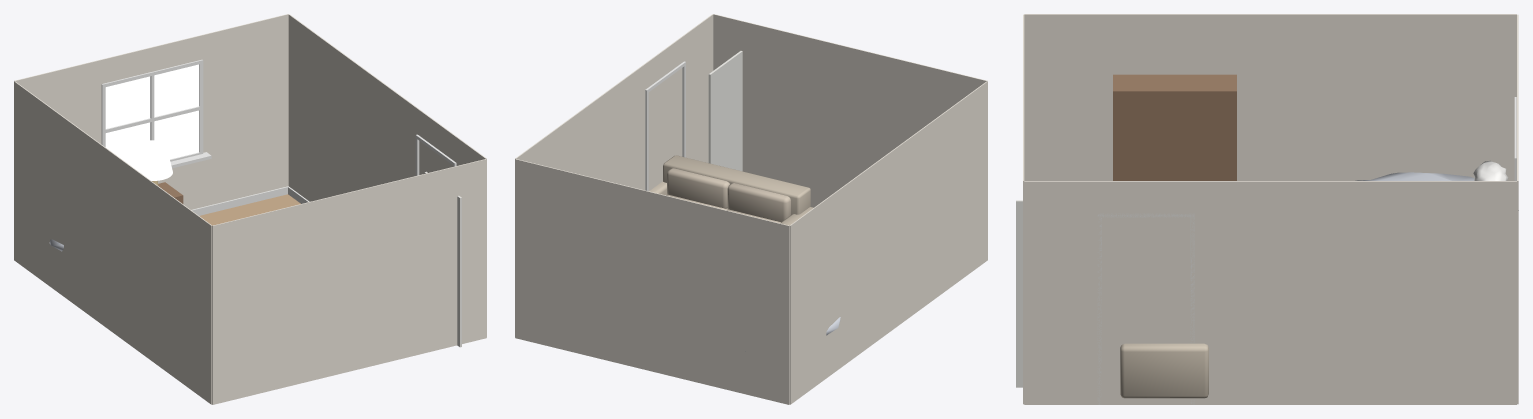
File: world.glb
The picture shows the model from 3 angles, left to right: view 1: azimuth 30°, elevation 25°; view 2: azimuth 150°, elevation 25°; view 3: azimuth 270°, elevation 25°; orthographic projection. The views are drawn at different scales.
Parts seen in each view (by area): view 1: wall_paint, window_light, window_frame, lamp_shade, wood_floor, baseboard, door_paint; view 2: wall_paint, door_paint, cushion, fabric_sofa, window_frame; view 3: wall_paint, wood_dark, fabric_sofa, door_paint, window_frame, duvet, pillow.
Part boxes in pixels (x1,y1,x2,y2): wall_paint: (14, 14, 486, 404); window_light: (105, 64, 199, 167); window_frame: (101, 59, 456, 175); lamp_shade: (133, 140, 172, 180); wood_floor: (199, 194, 300, 225); baseboard: (191, 186, 309, 215); door_paint: (424, 171, 461, 347); wall_paint: (515, 14, 987, 404); door_paint: (708, 51, 742, 171); cushion: (666, 168, 790, 223); fabric_sofa: (649, 155, 813, 225); window_frame: (645, 61, 685, 190); wall_paint: (1023, 14, 1518, 404); wood_dark: (1113, 74, 1236, 180); fabric_sofa: (1120, 343, 1208, 398); door_paint: (1016, 200, 1022, 387); window_frame: (1098, 97, 1516, 404); duvet: (1355, 172, 1518, 210); pillow: (1473, 160, 1508, 180).
Size of the model in its own units: 1472 by 877 by 1787.
